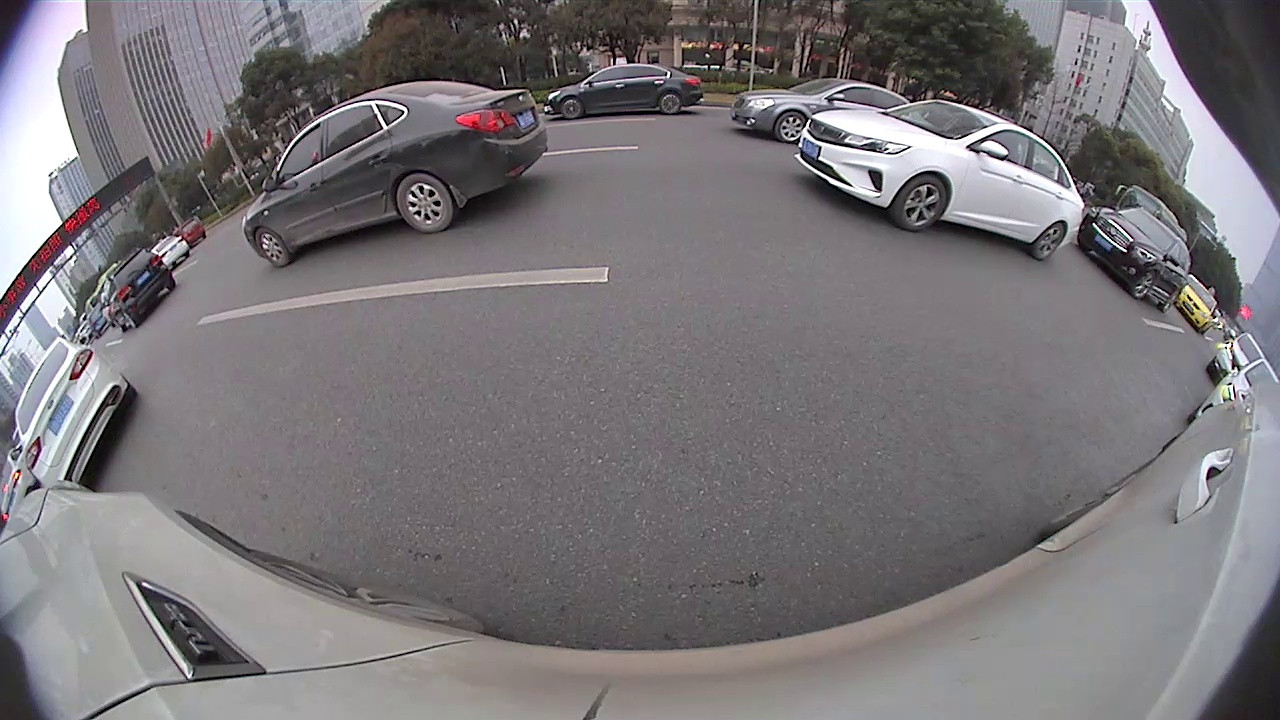car: (238, 77, 552, 270), (790, 95, 1087, 265), (14, 335, 140, 496), (1080, 204, 1193, 317), (733, 75, 913, 145), (548, 59, 706, 125), (93, 242, 177, 333)
front: (893, 173, 949, 231), (255, 226, 288, 268), (773, 111, 805, 143), (1129, 268, 1157, 300), (560, 98, 585, 121)
rear: (397, 173, 455, 233), (1032, 220, 1066, 261), (658, 93, 682, 116), (1162, 289, 1180, 313)
